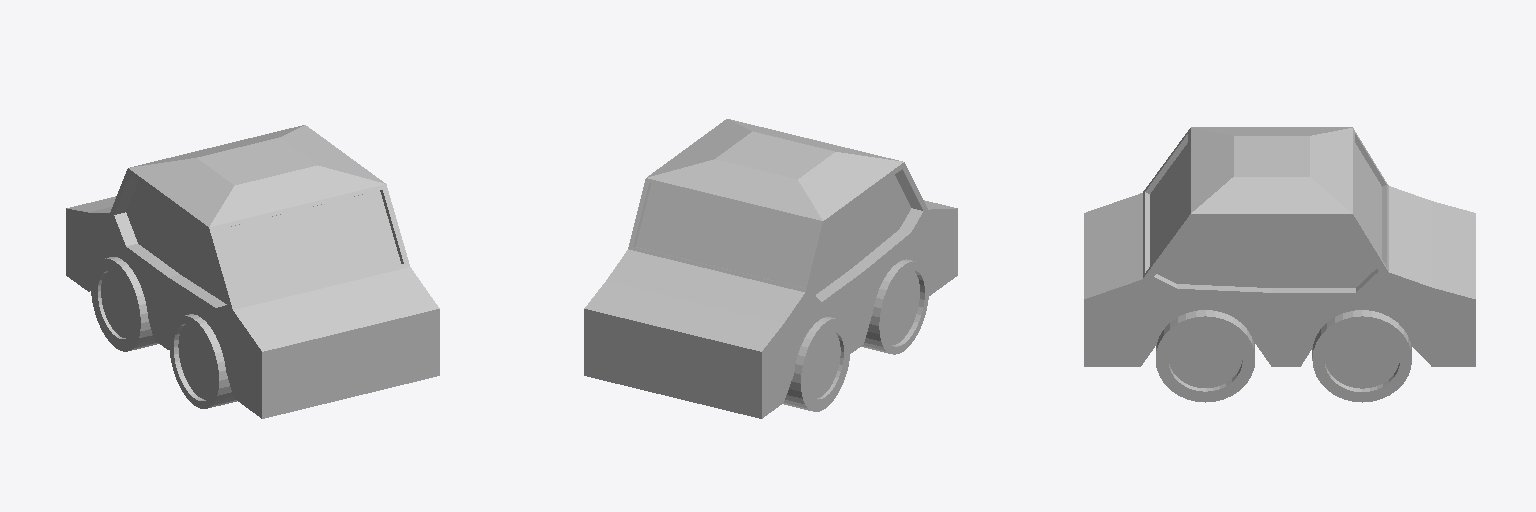
File: car.obj
The picture shows the model from 3 angles: view 1: azimuth 30°, elevation 25°; view 2: azimuth 150°, elevation 25°; view 3: azimuth 270°, elevation 25°; orthographic projection.
Visible parts, largest first — view 1: Cube, wheels.002_Cylinder.003, wheels.003_Cylinder.004; view 2: Cube, wheels.003_Cylinder.004, wheels.002_Cylinder.003; view 3: Cube, wheels_Cylinder.001, wheels.001_Cylinder.002.
Boxes of the visible parts, box(x1,y1,x2,y2) form: Cube: box(66, 125, 439, 418); wheels.002_Cylinder.003: box(169, 314, 236, 408); wheels.003_Cylinder.004: box(91, 257, 158, 351); Cube: box(584, 119, 957, 418); wheels.003_Cylinder.004: box(783, 317, 850, 411); wheels.002_Cylinder.003: box(861, 259, 928, 354); Cube: box(1084, 127, 1475, 366); wheels_Cylinder.001: box(1312, 310, 1411, 402); wheels.001_Cylinder.002: box(1156, 310, 1254, 402).
Bounding box in the file's own units: 2.41 × 2.29 × 4.14.